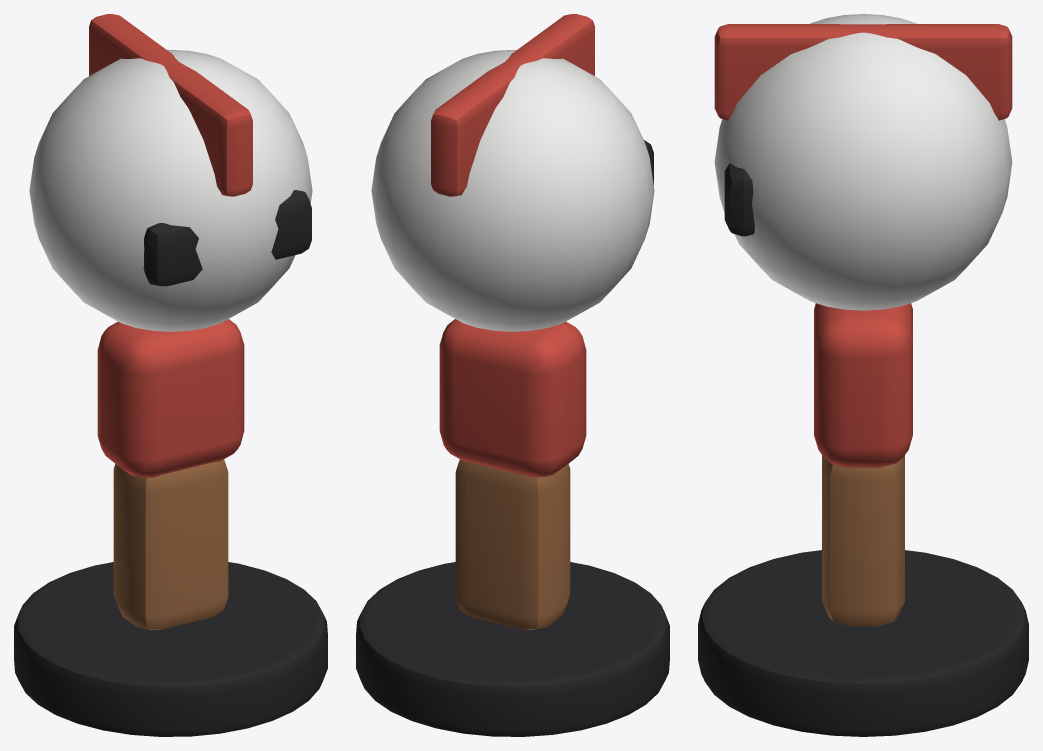
File: industrial.workshop.trinket_bobblehead.glb
3 views of the same model, side by side, from view 1: azimuth 30°, elevation 25°; view 2: azimuth 150°, elevation 25°; view 3: azimuth 270°, elevation 25° (orthographic). The views are drawn at different scales.
Parts seen in each view (by area): view 1: main__paint_eed, main__paint_222, main__paint_c44, main__paint_964; view 2: main__paint_eed, main__paint_222, main__paint_c44, main__paint_964; view 3: main__paint_eed, main__paint_222, main__paint_c44, main__paint_964.
Boxes of the visible parts, x1,y1,x2,y2 form: main__paint_eed: [29, 50, 312, 331]; main__paint_222: [14, 190, 327, 736]; main__paint_c44: [89, 14, 252, 477]; main__paint_964: [113, 459, 228, 629]; main__paint_eed: [371, 50, 654, 331]; main__paint_222: [356, 140, 669, 736]; main__paint_c44: [431, 14, 594, 477]; main__paint_964: [455, 459, 570, 629]; main__paint_eed: [714, 14, 1012, 310]; main__paint_222: [698, 163, 1028, 736]; main__paint_c44: [714, 24, 1012, 467]; main__paint_964: [822, 455, 904, 626].
Bounding box in the file's own units: 0.1 × 0.215 × 0.1.
